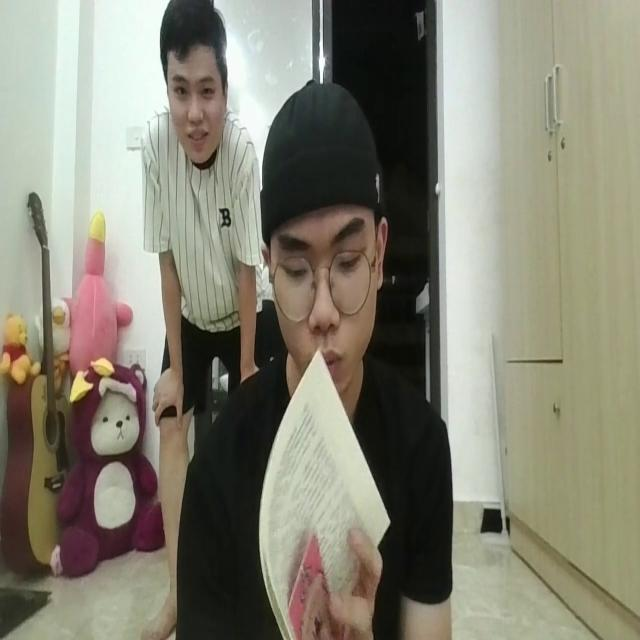book: (254, 348, 390, 640)
extra_person: (135, 5, 266, 417)
student: (178, 59, 453, 640)
